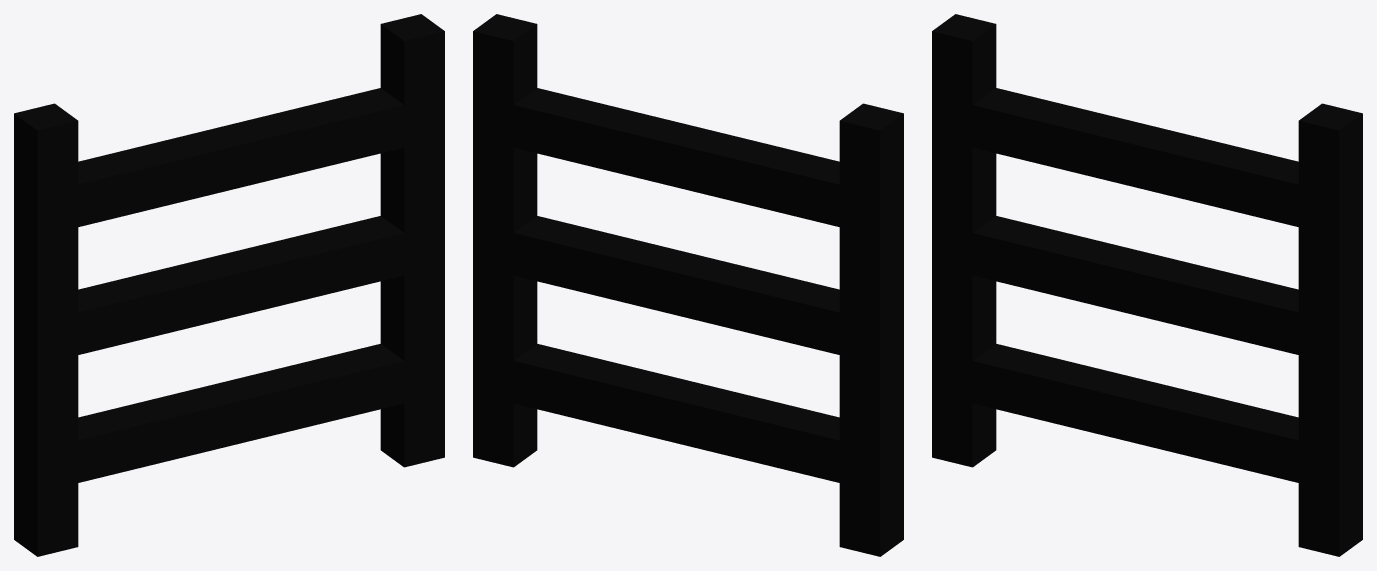
The model's file is ladder.obj.
The picture shows the model from 3 angles, left to right: view 1: azimuth 30°, elevation 25°; view 2: azimuth 150°, elevation 25°; view 3: azimuth 330°, elevation 25°; orthographic projection.
Visible parts, largest first — view 1: Cube; view 2: Cube; view 3: Cube.
Part boxes in pixels (x1,y1,x2,y2): Cube: [14, 14, 444, 556]; Cube: [473, 14, 903, 556]; Cube: [932, 14, 1362, 556].
Bounding box in the file's own units: 1 × 1 × 0.1.
Materials: 1 (1 with a texture image).
